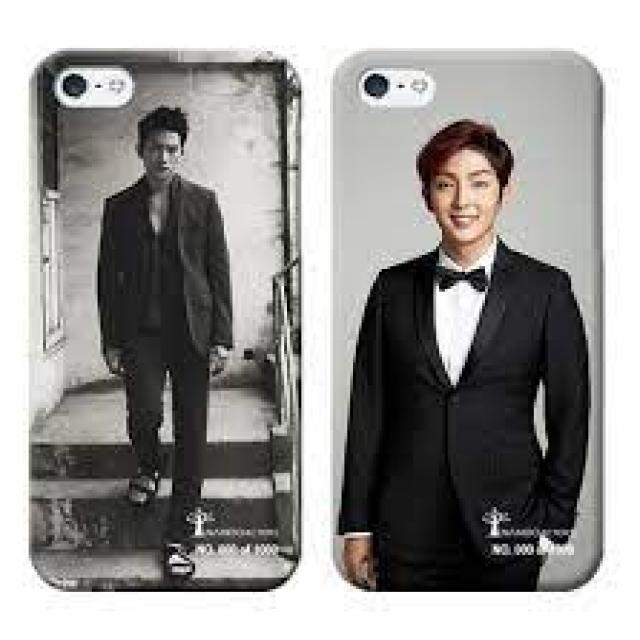lens: (355, 65, 443, 112), (52, 67, 137, 111)
phone: (30, 46, 302, 594), (331, 48, 604, 590)
